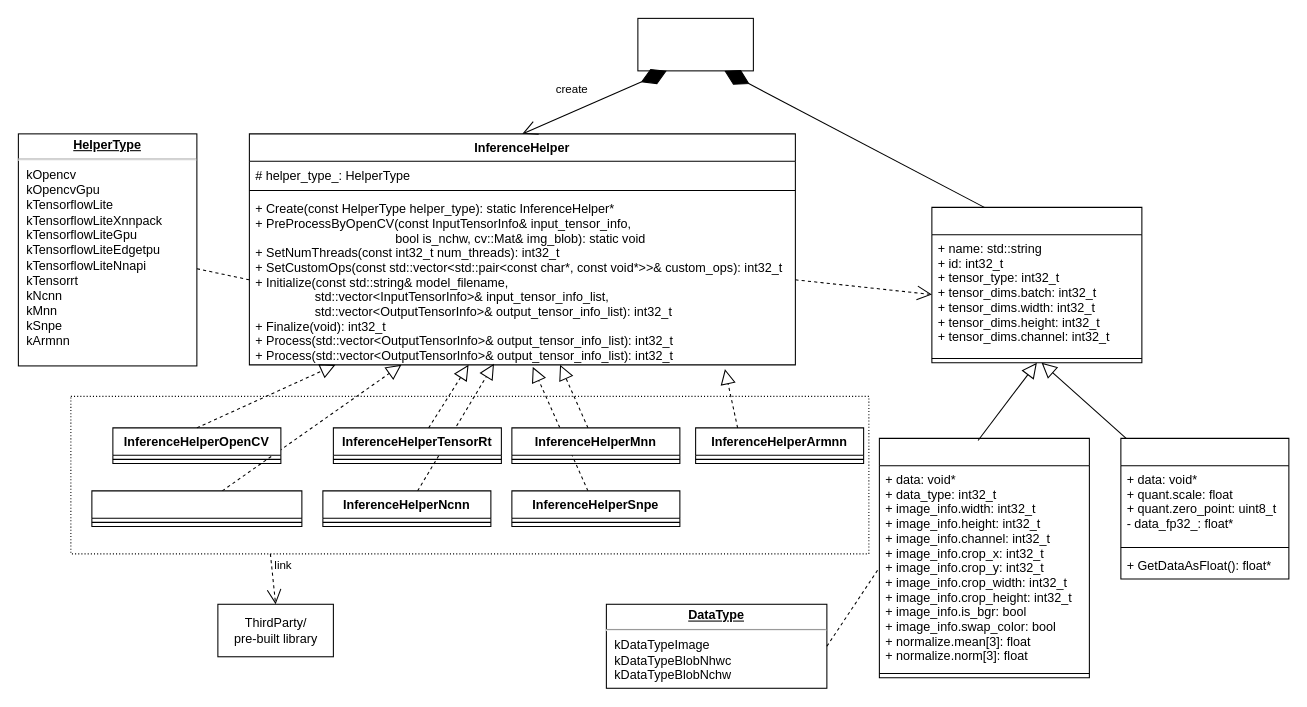
The diagram is 1307 pixels wide and 707 high, and some of its shapes have lost their labels. Each missing label, with the box of its shape:
InferenceHelperTensorflowLite: (91, 490, 302, 527)
InputTensorInfo: (878, 437, 1089, 678)
OutputTensorInfo: (1120, 437, 1289, 579)
TensorInfo: (931, 206, 1142, 363)
User code: (637, 17, 753, 71)
